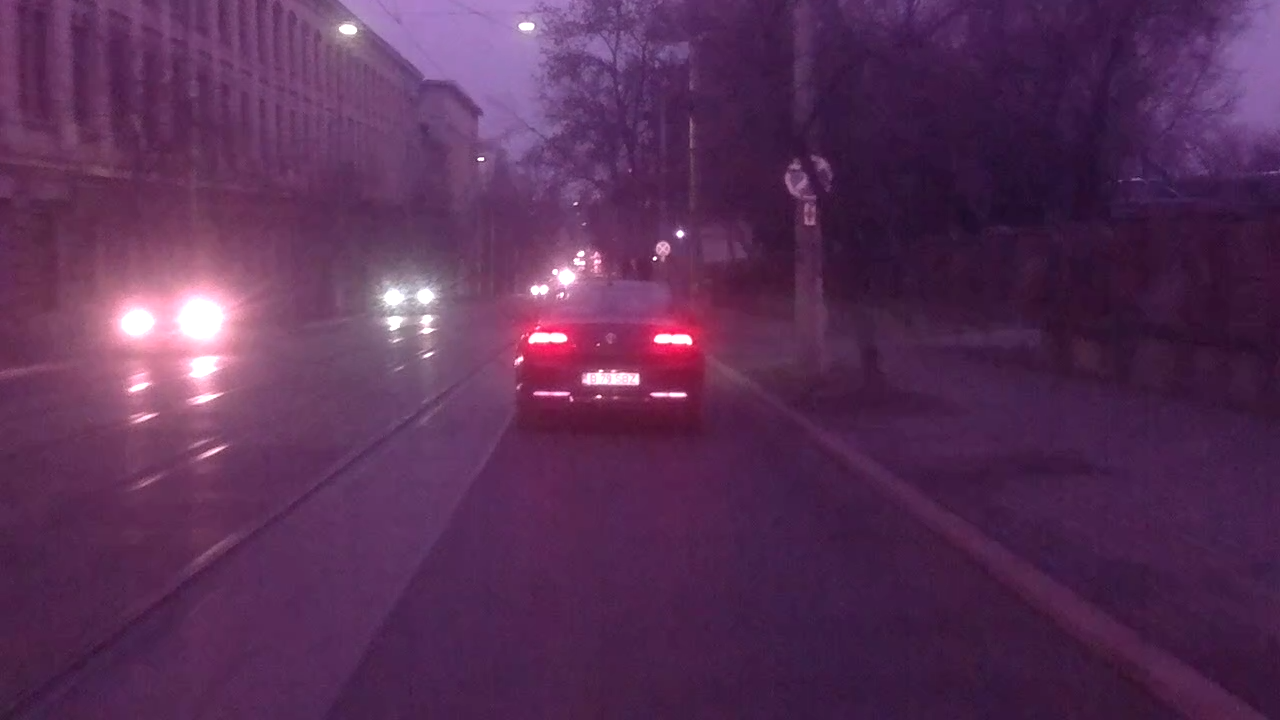license-plate: (575, 368, 643, 388)
